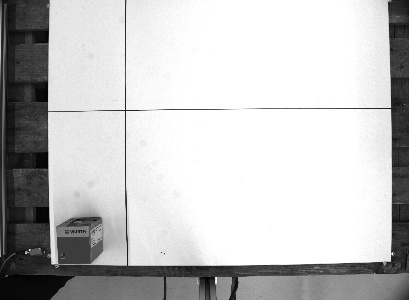b7: (53, 214, 106, 266)
